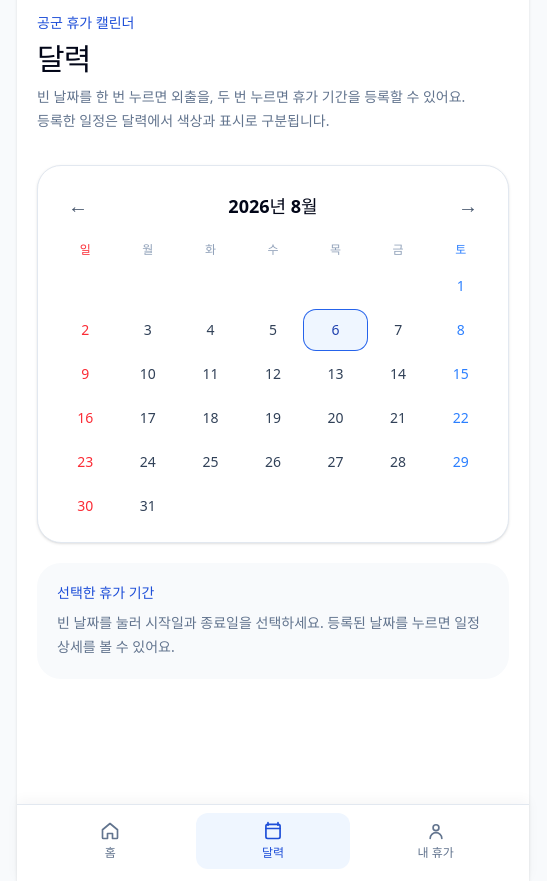
Test: 월간 달력 › 월을 이동하고 두 날짜를 이른 순서로 선택해 포함 일수를 보여준다
Expected: the text "빈 날짜를 한 번 누르면 외출을" reads "빈 날짜를 한 번 누르면 외출을, 두 번 누르면 휴가 기간을 등록할 수 있어요. 등록한 일정은 달력에서 색상과 표시로 구분됩니다.", [37,87,465,130]
Click the button named "다음 달" at (468, 206), box [444,182,492,230]
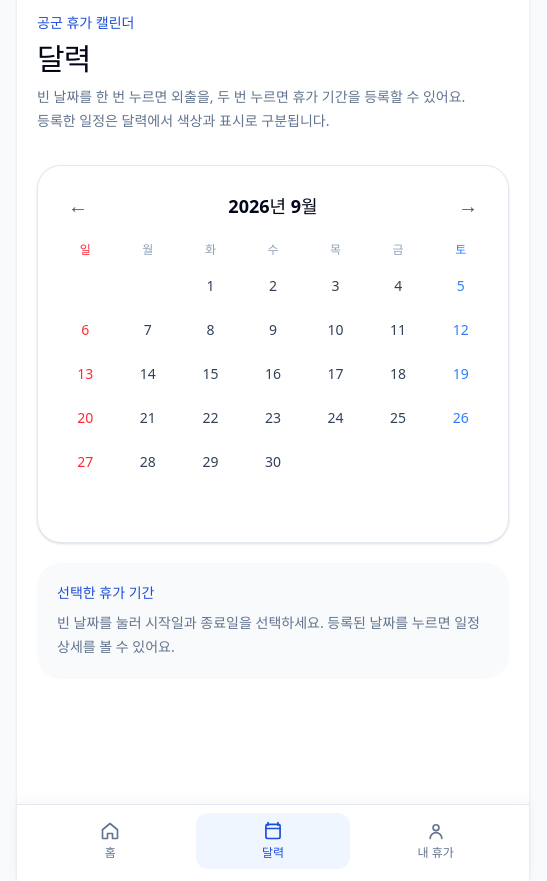
Now the heading "2026년 9월" no longer shows "2026년 8월", box [228,192,318,220]
Click the button "10" at (336, 330), box [304,310,367,350]
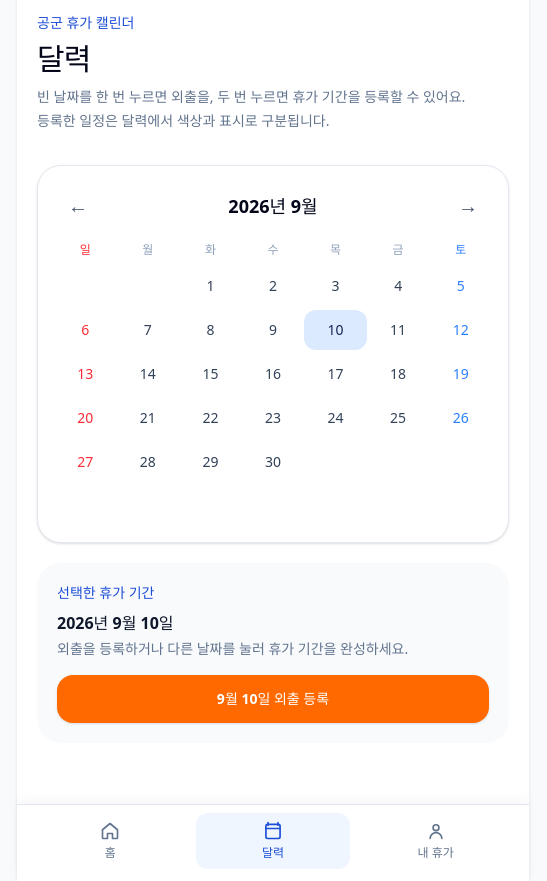
Click the button "8" at (210, 330), box [179,310,242,350]
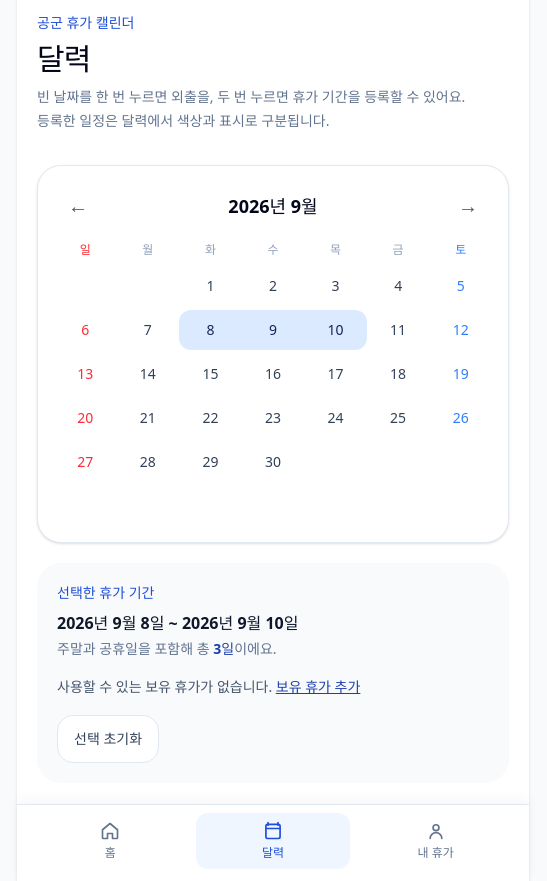
Now the text "주말과 공휴일을 포함해 총 3일이에요." is shown, box [57,639,277,658]
